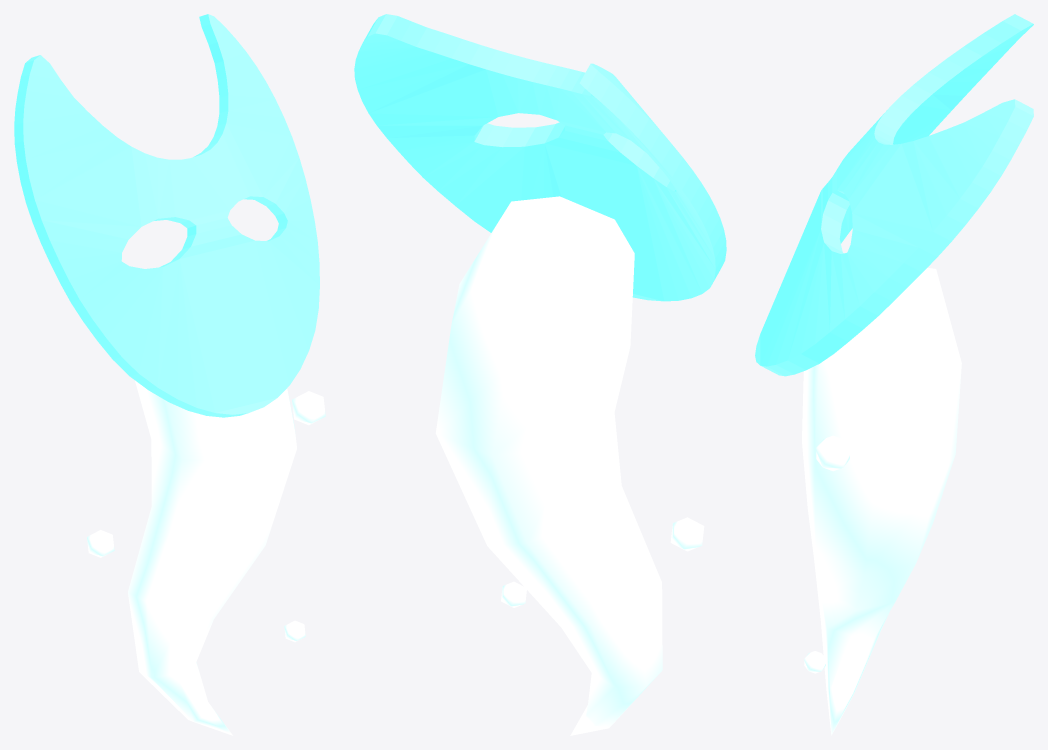
The model's file is soul_mask.glb.
3 renders of one model, left to right at view 1: azimuth 30°, elevation 25°; view 2: azimuth 150°, elevation 25°; view 3: azimuth 270°, elevation 25°, orthographic. The views are drawn at different scales.
Parts seen in each view (by area): view 1: soul_mask_mask, soul_mask_wisp; view 2: soul_mask_wisp, soul_mask_mask; view 3: soul_mask_wisp, soul_mask_mask.
Boxes of the visible parts, box(x1,y1,x2,y2) form: soul_mask_mask: box(14, 14, 319, 417); soul_mask_wisp: box(87, 380, 325, 735); soul_mask_wisp: box(435, 196, 704, 735); soul_mask_mask: box(354, 14, 726, 301); soul_mask_wisp: box(802, 267, 961, 735); soul_mask_mask: box(755, 14, 1033, 376).
Size of the model in its own units: 0.3443 by 0.82 by 0.31.
